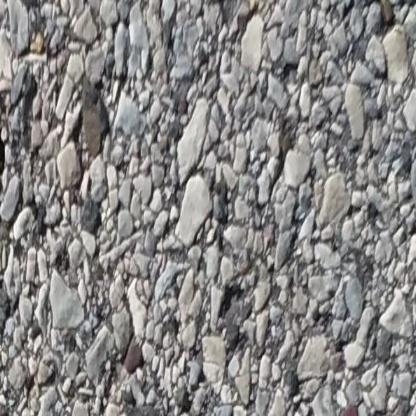Cracks: (0, 0, 5, 244)
